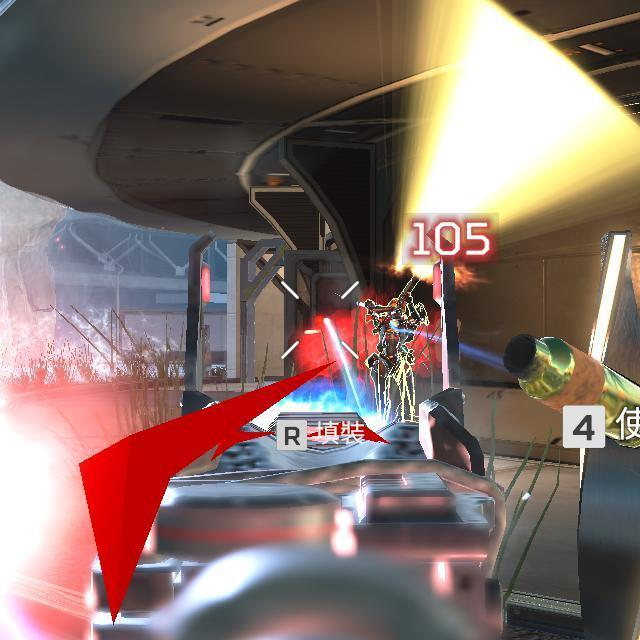avatar: (361, 295, 430, 422)
